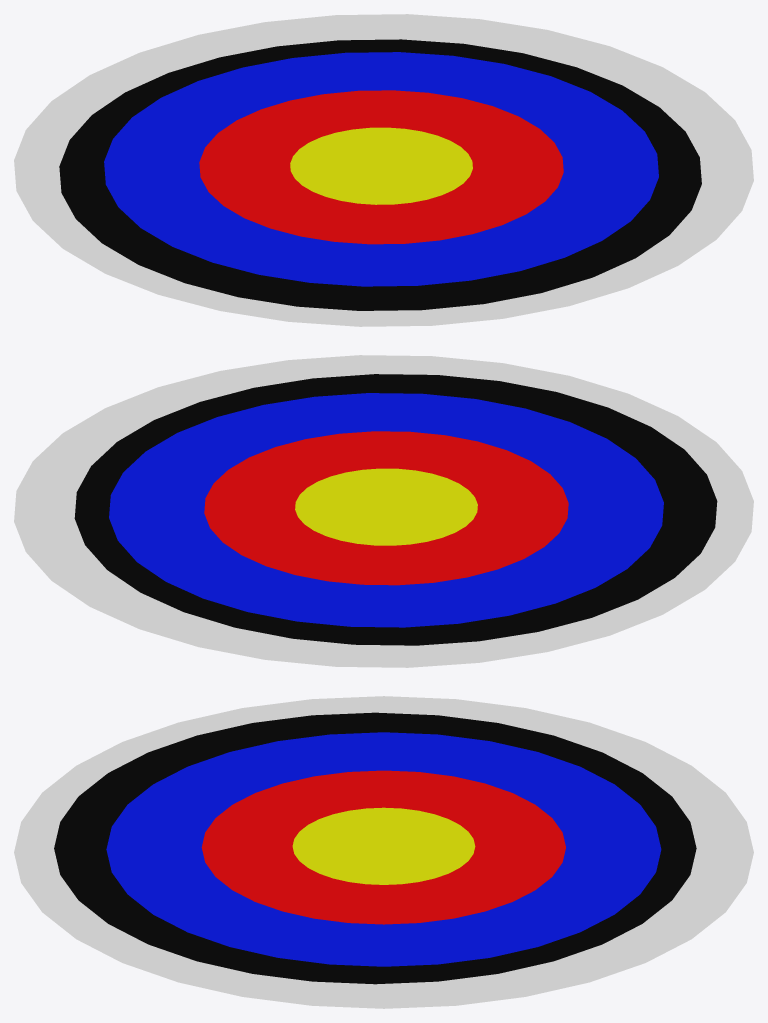
The model's file is shield.fbx.
The picture shows the model from 3 angles, top to bottom: view 1: azimuth 30°, elevation 25°; view 2: azimuth 150°, elevation 25°; view 3: azimuth 270°, elevation 25°; orthographic projection.
Visible parts, largest first — view 1: Circle.002, Circle.003, Circle.004, Circle.005, Circle.006, Circle.007, Circle.008, Circle.009; view 2: Circle.002, Circle.003, Circle.004, Circle.005, Circle.006, Circle.007, Circle.008, Circle.009; view 3: Circle.002, Circle.003, Circle.004, Circle.005, Circle.006, Circle.007, Circle.008, Circle.009.
Boxes of the visible parts, x1,y1,x2,y2 form: Circle.002: (14, 14, 753, 326); Circle.003: (59, 39, 701, 310); Circle.004: (104, 52, 658, 286); Circle.005: (152, 70, 610, 264); Circle.006: (199, 90, 563, 244); Circle.007: (250, 111, 512, 222); Circle.008: (290, 127, 472, 204); Circle.009: (333, 144, 429, 184); Circle.002: (14, 355, 753, 667); Circle.003: (74, 374, 717, 645); Circle.004: (109, 393, 663, 627); Circle.005: (157, 411, 615, 605); Circle.006: (204, 431, 568, 585); Circle.007: (255, 452, 517, 563); Circle.008: (295, 468, 477, 545); Circle.009: (338, 485, 434, 525); Circle.002: (14, 696, 753, 1008); Circle.003: (54, 712, 696, 984); Circle.004: (106, 732, 661, 966); Circle.005: (154, 750, 613, 944); Circle.006: (201, 770, 565, 924); Circle.007: (252, 791, 515, 902); Circle.008: (292, 807, 475, 884); Circle.009: (335, 824, 431, 864).
Size of the model in its own units: 312 by 3.19 by 312.
